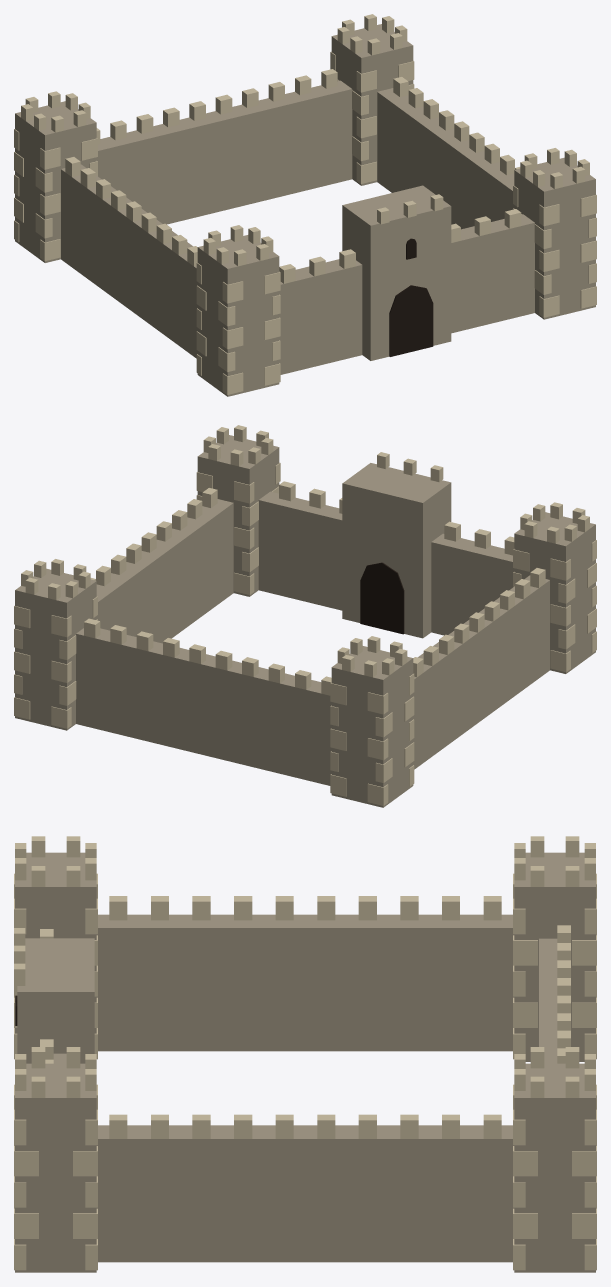
The model's file is castle_wall_small.glb.
The picture shows the model from 3 angles, top to bottom: view 1: azimuth 30°, elevation 25°; view 2: azimuth 150°, elevation 25°; view 3: azimuth 270°, elevation 25°; orthographic projection. The views are drawn at different scales.
Visible parts, largest first — view 1: castle_wall_small; view 2: castle_wall_small; view 3: castle_wall_small.
Boxes of the visible parts, bbox=[...] form: castle_wall_small: bbox=[14, 14, 596, 396]; castle_wall_small: bbox=[14, 425, 596, 807]; castle_wall_small: bbox=[14, 836, 596, 1272].
Size of the model in its own units: 25.7 by 9.8 by 25.7.
